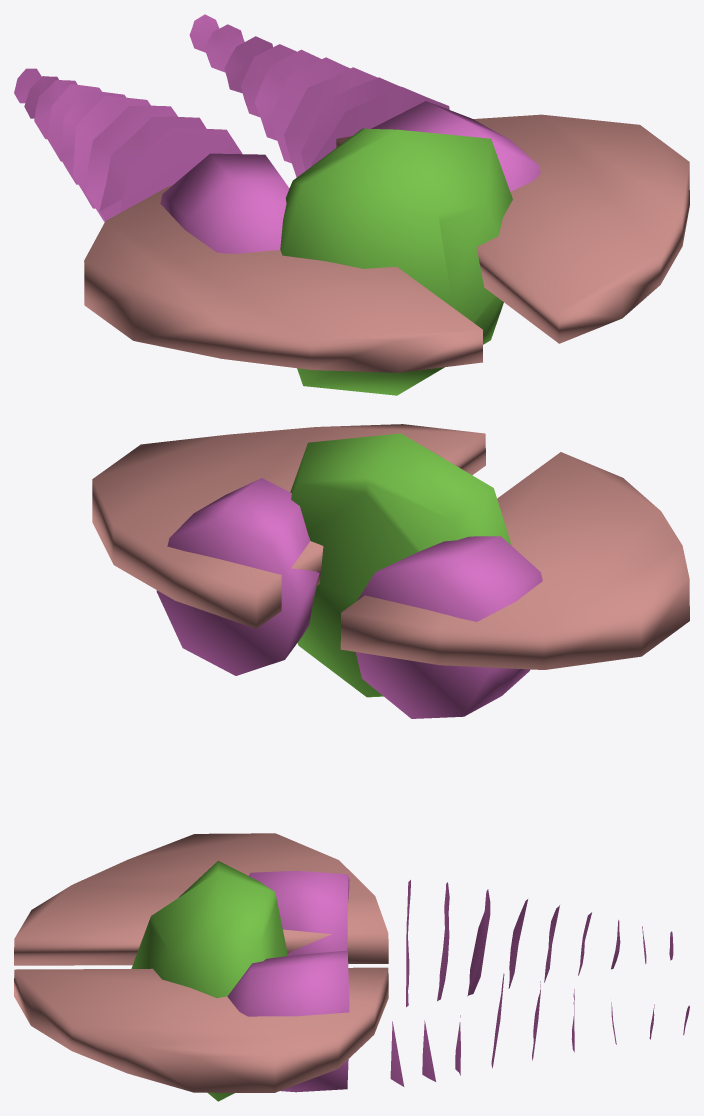
Rendered from ship_13.gltf.
3 views of the same model, one above another, from view 1: azimuth 30°, elevation 25°; view 2: azimuth 150°, elevation 25°; view 3: azimuth 270°, elevation 25° (orthographic). The views are drawn at different scales.
Parts seen in each view (by area): view 1: gtlf; view 2: gtlf; view 3: gtlf.
Part boxes in pixels (x1,y1,x2,y2): gtlf: [14, 14, 689, 395]; gtlf: [92, 424, 689, 718]; gtlf: [14, 833, 689, 1101].
Size of the model in its own units: 1.76 by 0.8045 by 2.25.
